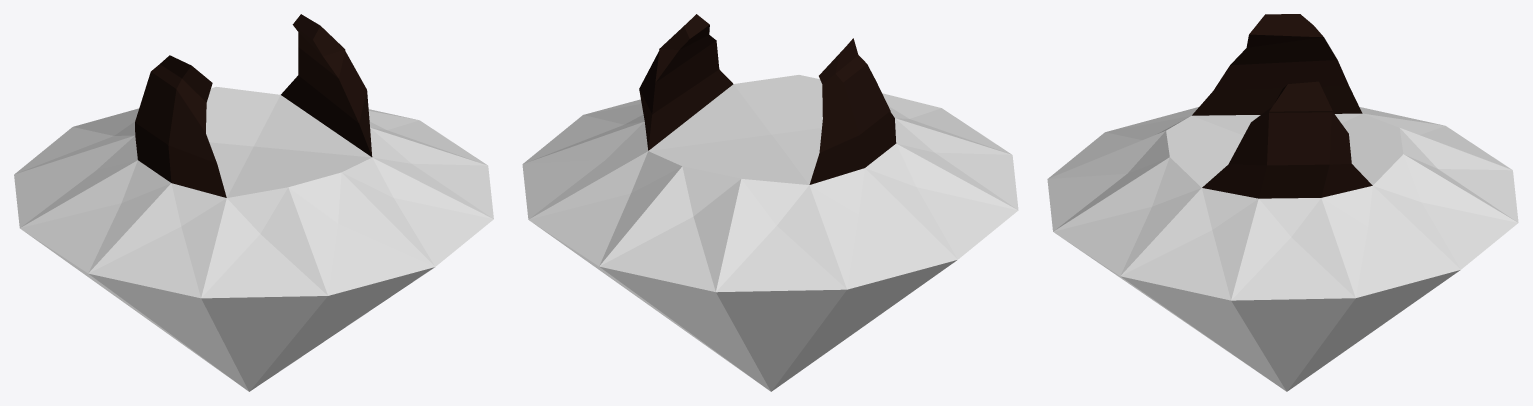
File: RHRModel.fbx
3 renders of one model, left to right at view 1: azimuth 30°, elevation 25°; view 2: azimuth 150°, elevation 25°; view 3: azimuth 270°, elevation 25°, orthographic. The views are drawn at different scales.
Parts seen in each view (by area): view 1: Cone; view 2: Cone; view 3: Cone.
Part boxes in pixels (box(x1,y1,x2,y2)): Cone: box(14, 14, 493, 391); Cone: box(522, 14, 1018, 391); Cone: box(1047, 14, 1518, 391).
Bounding box in the file's own units: 195 × 158 × 195.
